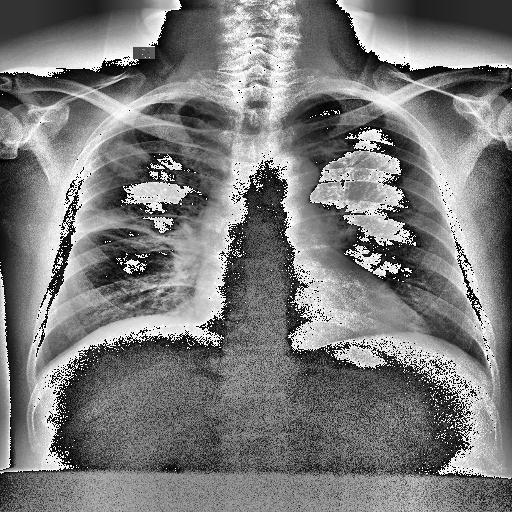0- Aortic enlargement: (259, 154, 320, 202)
11- Pleural thickening: (304, 89, 357, 99), (152, 93, 204, 101)
13- Pulmonary fibrosis: (67, 204, 196, 258), (76, 202, 196, 258), (64, 204, 194, 252), (97, 142, 153, 180), (102, 134, 148, 174)
3- Cardiomegaly: (190, 284, 430, 336)
6- Infiltration: (67, 204, 196, 258), (97, 142, 153, 180)
7- Lung Opacity: (100, 140, 152, 178), (102, 134, 148, 174)
